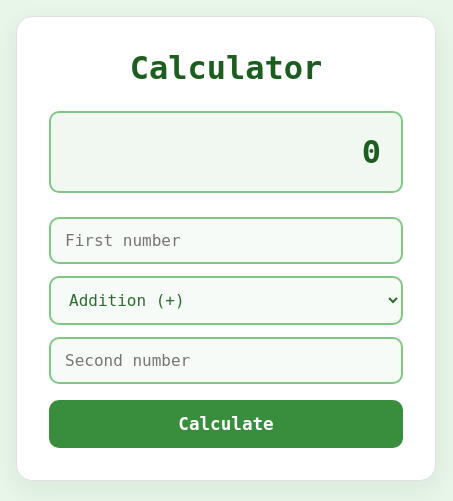
Test: calculates percentage
Type "50" into the number field with placeholder "First number". click: (226, 240)
box: [49,217,403,264]
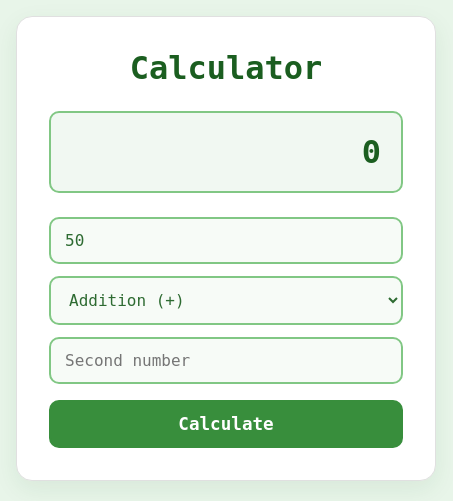
Select "Percentage (%)" in the dropdown. click: (226, 300)
box: [49,276,403,325]
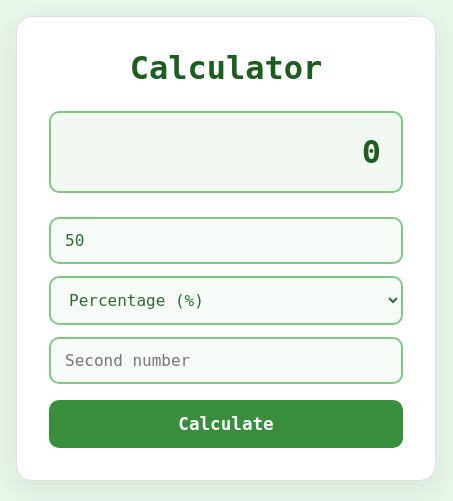
Type "10" into the number field with placeholder "Second number". click: (226, 360)
box: [49,337,403,384]
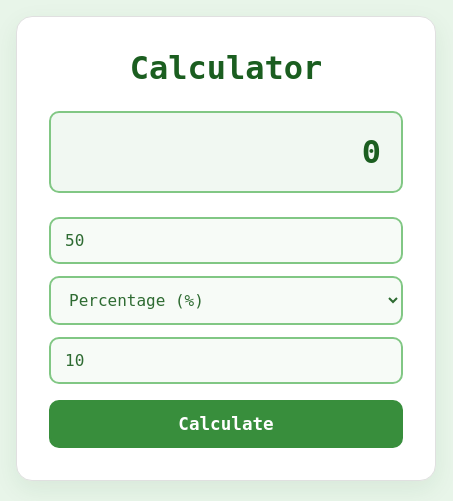
Click the button "Calculate". click: (226, 424)
box: [49,400,403,448]
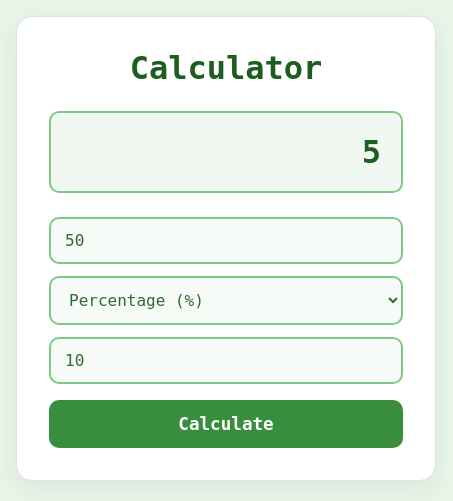
Result: the text "5" is shown at [49,111,403,193]
